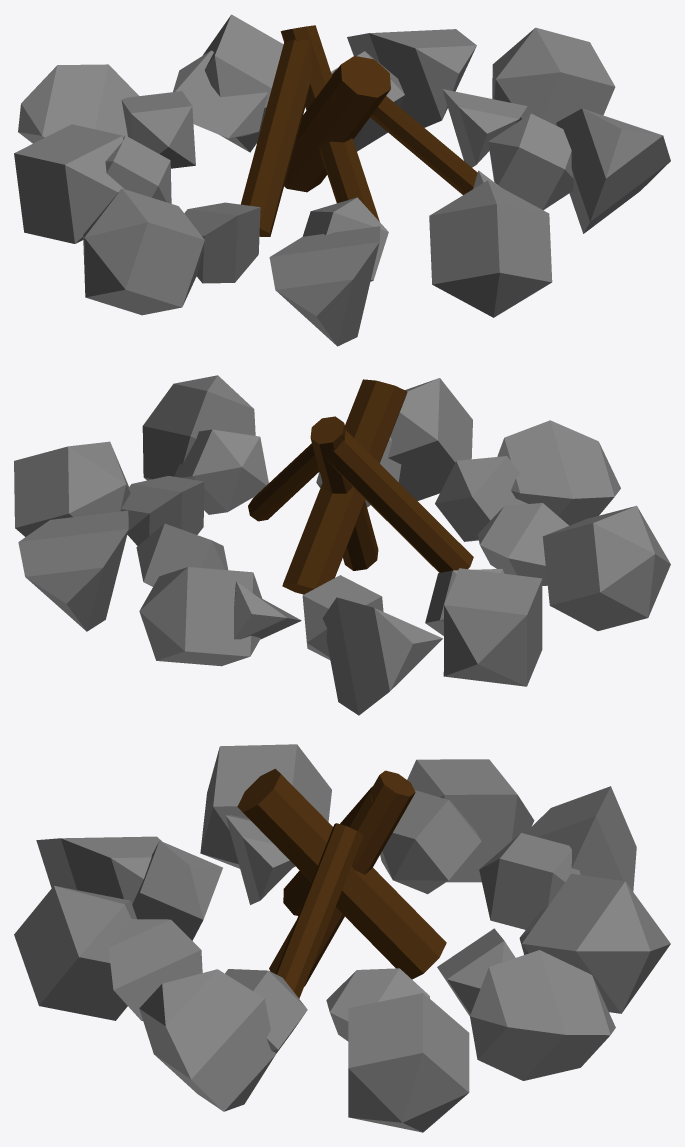
File: S_Camp_Fire.fbx
The picture shows the model from 3 angles, top to bottom: view 1: azimuth 30°, elevation 25°; view 2: azimuth 150°, elevation 25°; view 3: azimuth 270°, elevation 25°; orthographic projection. The views are drawn at different scales.
Parts seen in each view (by area): view 1: Cylinder.002; view 2: Cylinder.002; view 3: Cylinder.002.
Boxes of the visible parts, x1,y1,x2,y2 form: Cylinder.002: [14, 14, 670, 346]; Cylinder.002: [14, 375, 670, 715]; Cylinder.002: [14, 744, 670, 1132].
Bounding box in the file's own units: 88.64 × 29.59 × 78.86.
